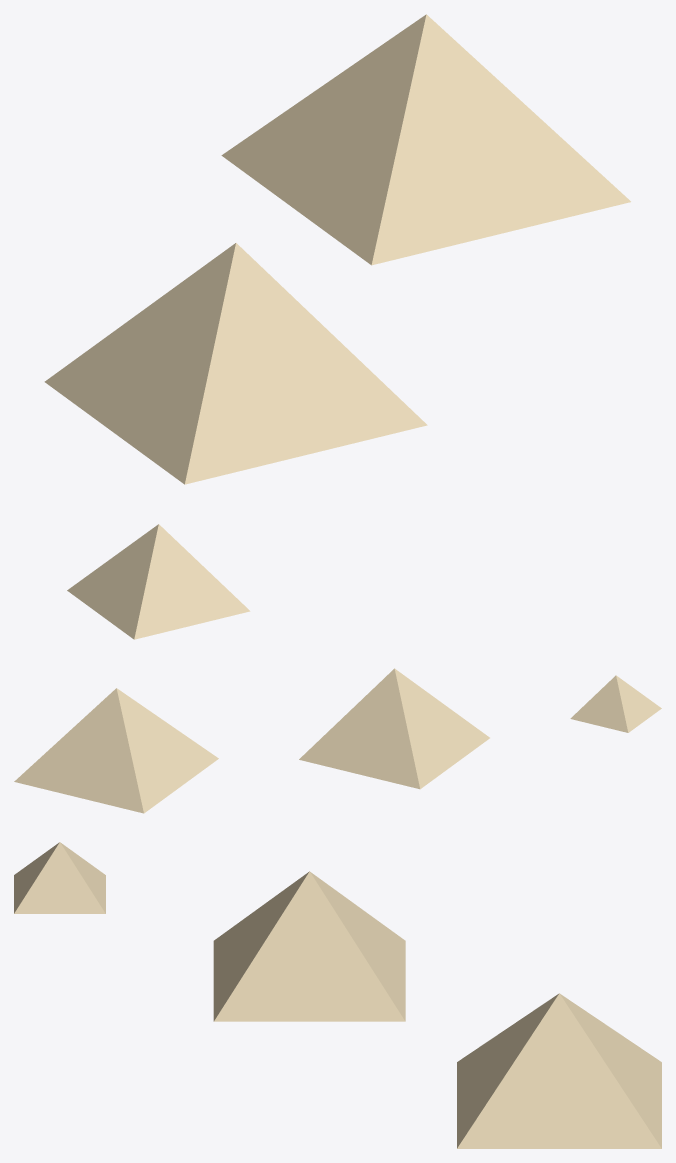
File: giza.glb
3 renders of one model, top to bottom at view 1: azimuth 30°, elevation 25°; view 2: azimuth 150°, elevation 25°; view 3: azimuth 270°, elevation 25°, orthographic. The views are drawn at different scales.
Visible parts, largest first — view 1: Cone, Cone.001, Cone.002; view 2: Cone, Cone.001, Cone.002; view 3: Cone, Cone.001, Cone.002.
Part boxes in pixels (box(x1,y1,x2,y2)): Cone: box(221, 14, 630, 265); Cone.001: box(44, 243, 427, 484); Cone.002: box(67, 524, 250, 639); Cone: box(14, 688, 218, 813); Cone.001: box(299, 668, 489, 789); Cone.002: box(570, 675, 661, 732); Cone: box(457, 993, 661, 1148); Cone.001: box(213, 871, 405, 1021); Cone.002: box(14, 842, 105, 913).
Bounding box in the file's own units: 727 × 139 × 727.
